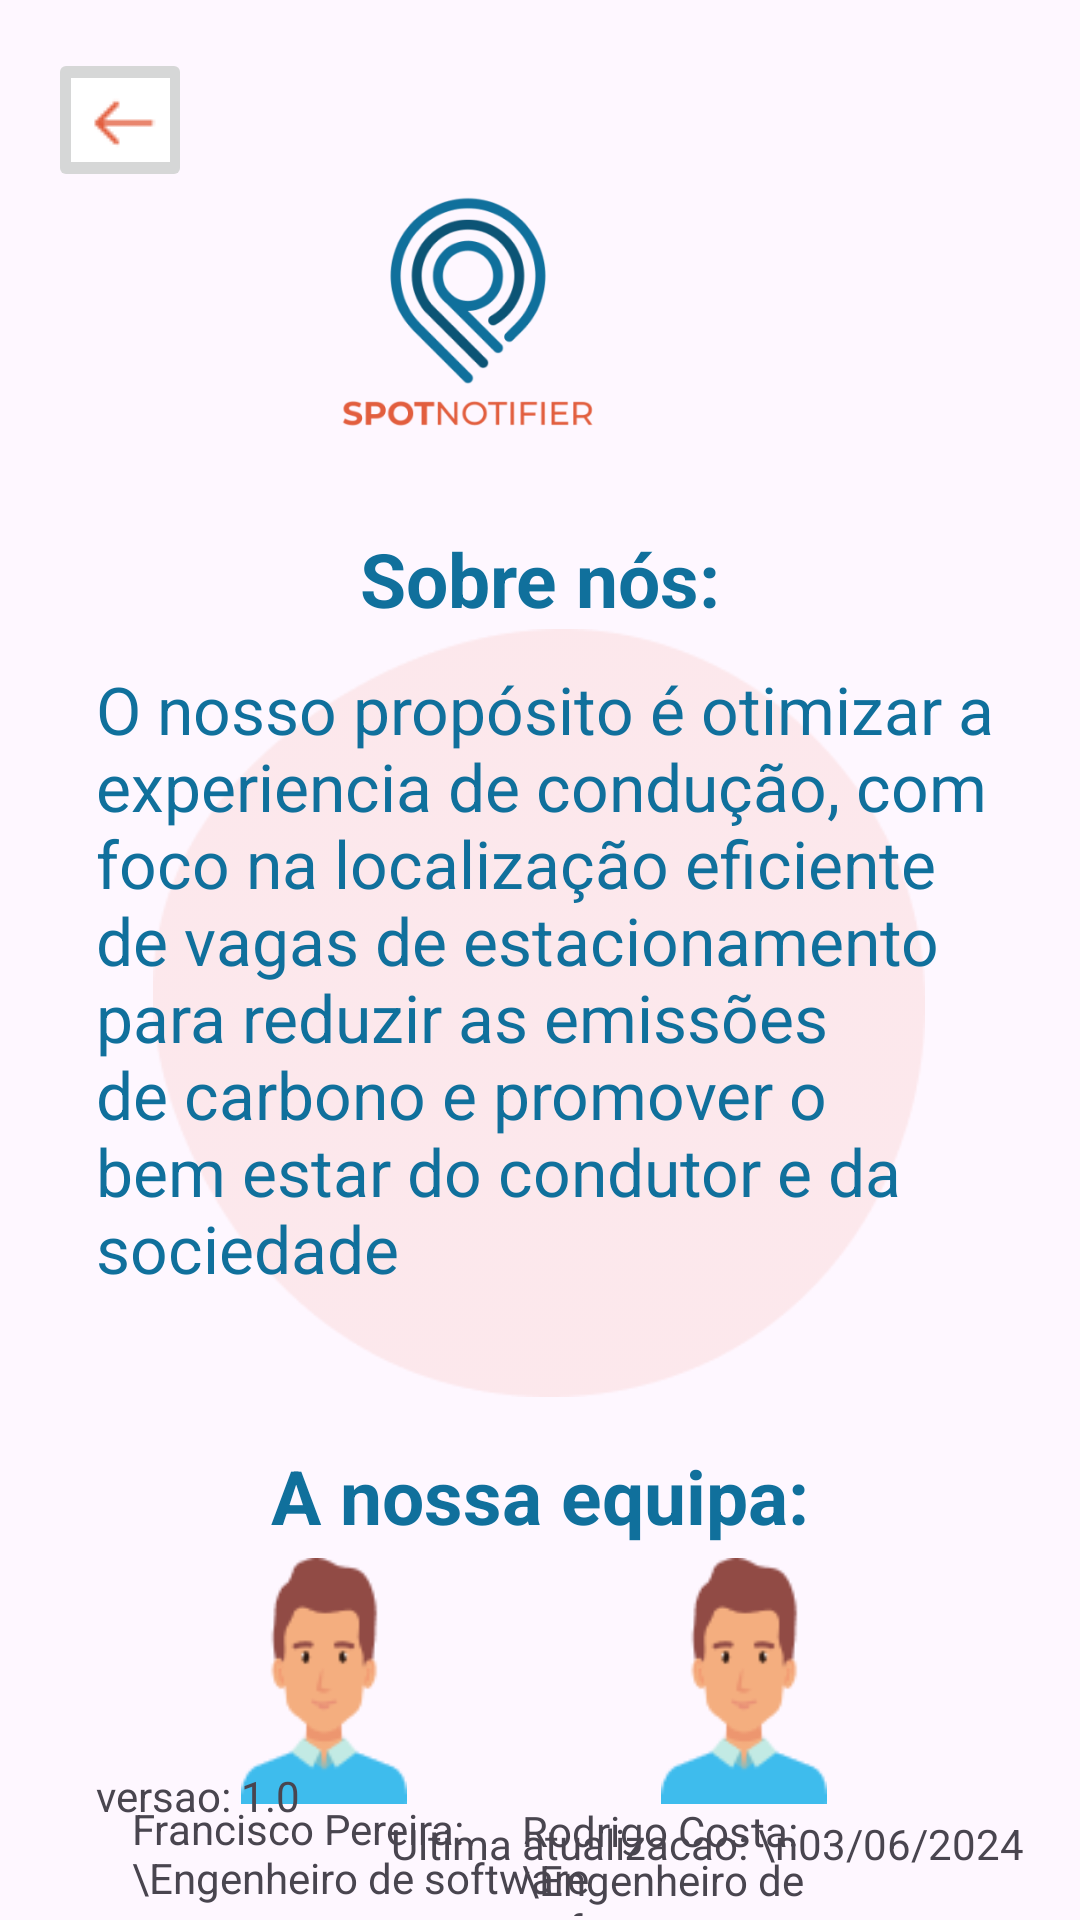

Where to tap for icons on this 1080w x 1920h app screen, as [x,y]:
btnback: [120,120]
usser: [299,1681], [744,1681]
